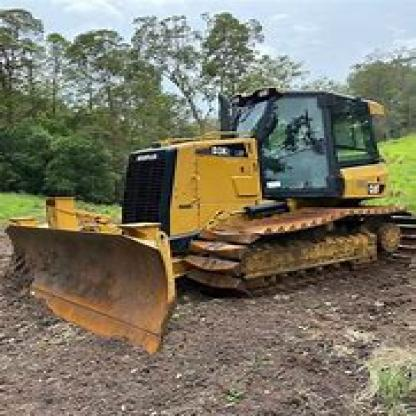bull_dozer/loader/grader: (3, 45, 412, 350)
